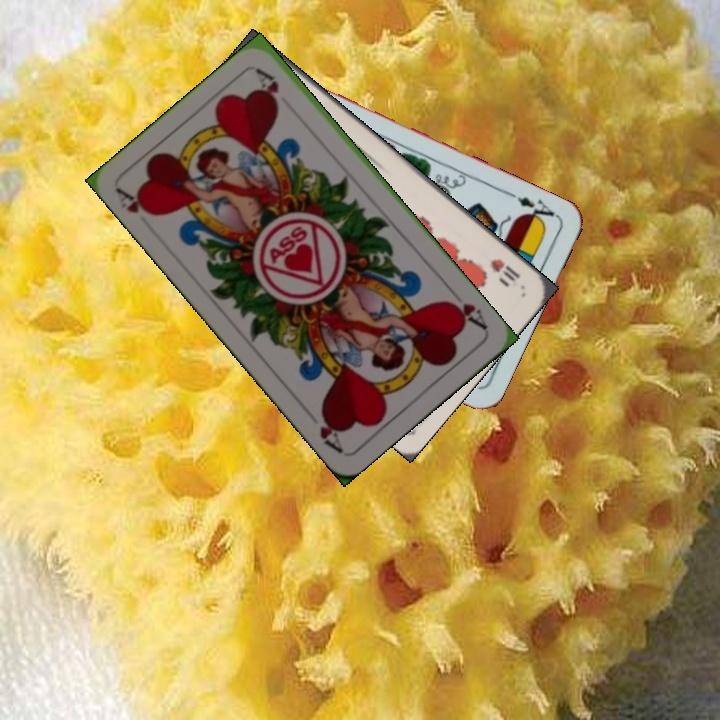EA: (513, 192, 560, 227)
H10: (486, 254, 523, 289)
HA: (441, 284, 490, 333), (113, 184, 160, 220)
